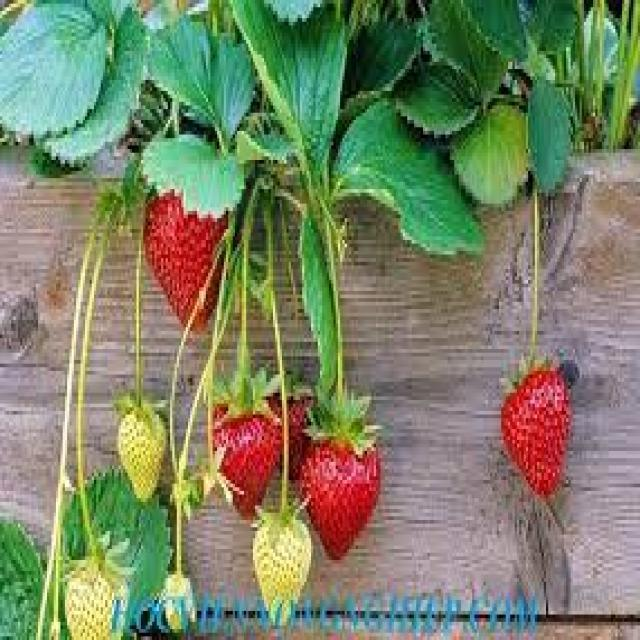Fruta sana: (138, 164, 222, 336), (296, 426, 383, 563), (504, 372, 571, 509), (212, 398, 276, 518), (247, 508, 311, 624), (263, 366, 322, 484), (60, 545, 123, 640), (113, 405, 165, 502)
